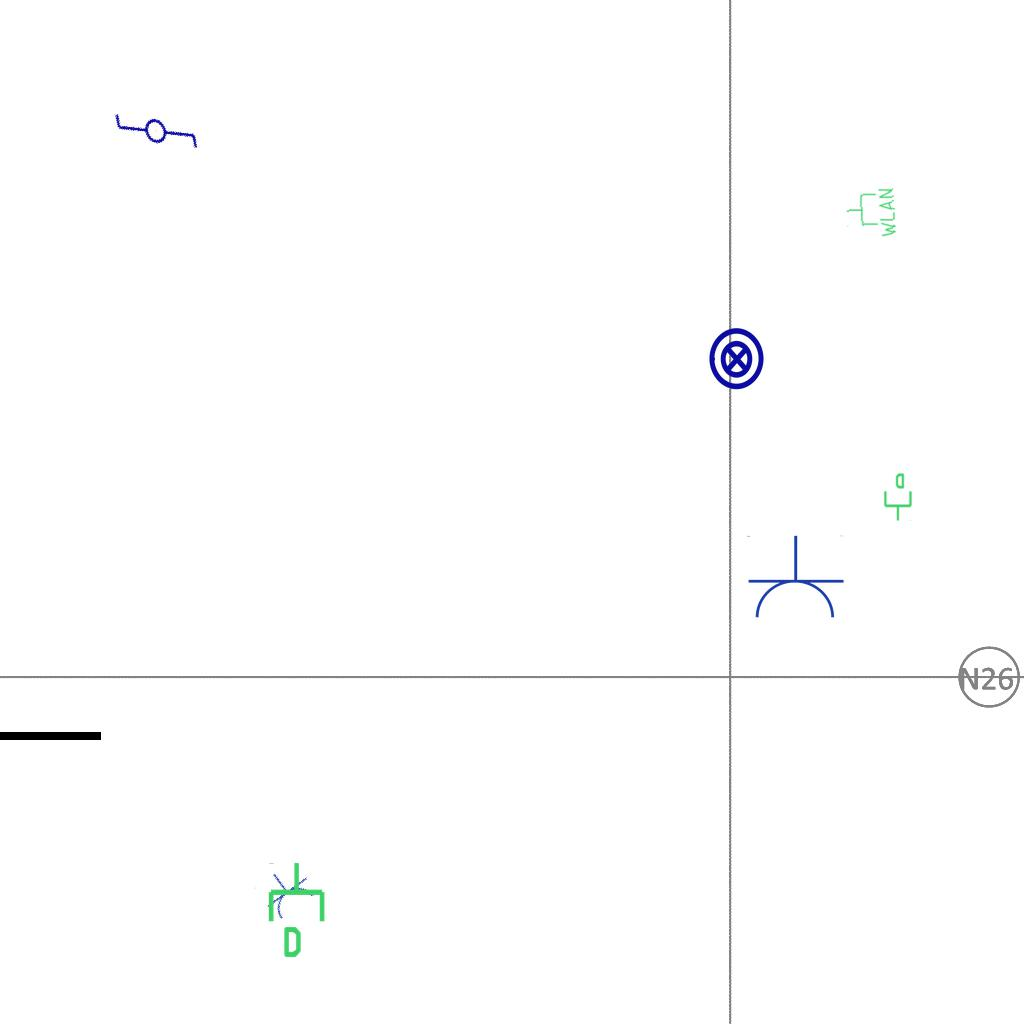Datenanschluss_einfach: (264, 860, 333, 960), (880, 472, 914, 522)
Schukosteckdose_einfach: (745, 535, 845, 622), (253, 859, 319, 924)
Taster_beleuchtet: (704, 326, 770, 392)
WLAN: (843, 186, 899, 242)
Wechselschalter: (105, 76, 205, 178)
